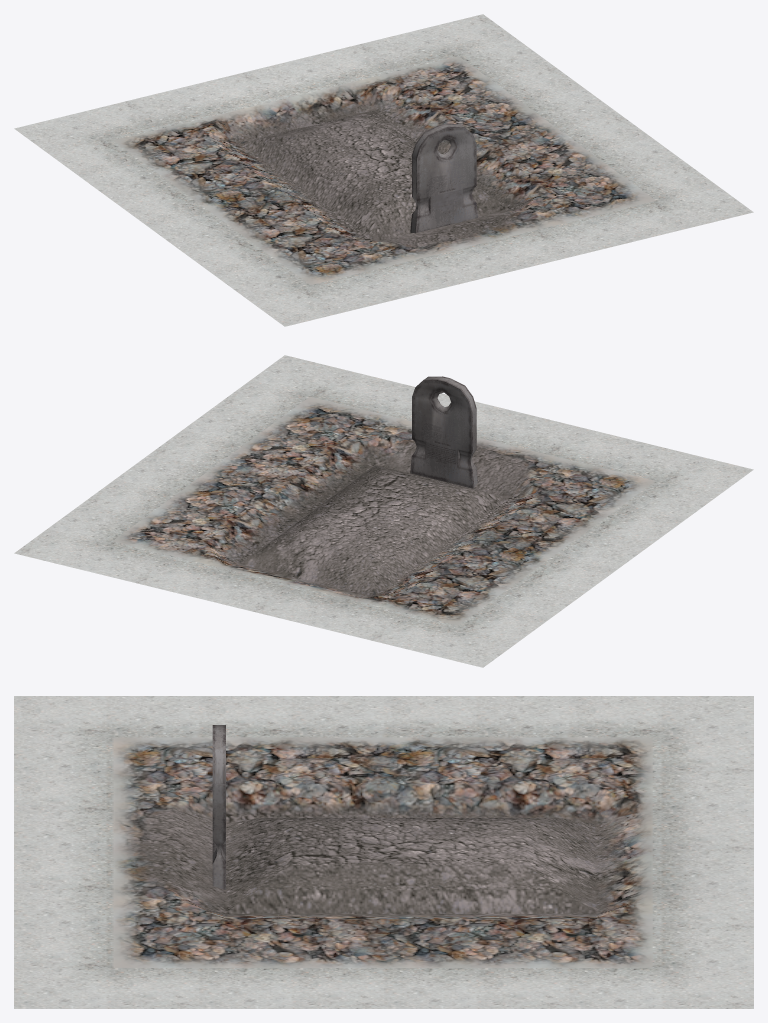
Rendered from graveyardGround.fbx.
The picture shows the model from 3 angles, top to bottom: view 1: azimuth 30°, elevation 25°; view 2: azimuth 150°, elevation 25°; view 3: azimuth 270°, elevation 25°; orthographic projection. The views are drawn at different scales.
Parts seen in each view (by area): view 1: Cube; view 2: Cube; view 3: Cube.
Boxes of the visible parts, <box> form: Cube: <box>14,14,753,326</box>; Cube: <box>14,355,753,667</box>; Cube: <box>14,696,753,1008</box>.
Bounding box in the file's own units: 600 × 123 × 600.
2 materials, 2 textured.
